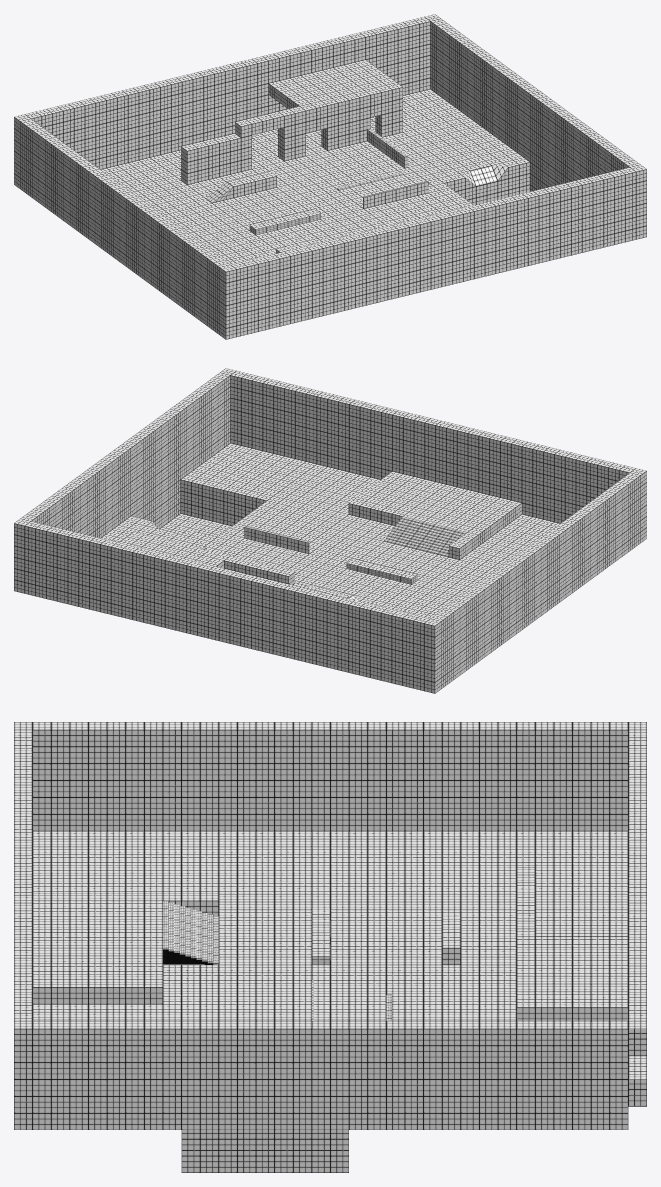
The model's file is test_level.glb.
The picture shows the model from 3 angles, top to bottom: view 1: azimuth 30°, elevation 25°; view 2: azimuth 150°, elevation 25°; view 3: azimuth 270°, elevation 25°; orthographic projection. The views are drawn at different scales.
Visible parts, largest first — view 1: Object_4.001MeshLOD0; view 2: Object_4.001MeshLOD0; view 3: Object_4.001MeshLOD0.
Part boxes in pixels (x1,y1,x2,y2): Object_4.001MeshLOD0: (14,14,646,339); Object_4.001MeshLOD0: (14,368,646,693); Object_4.001MeshLOD0: (14,722,646,1172).
Size of what is drawn, in the model's own units: 39 by 9 by 34.
Materials: 1 (1 with a texture image).
